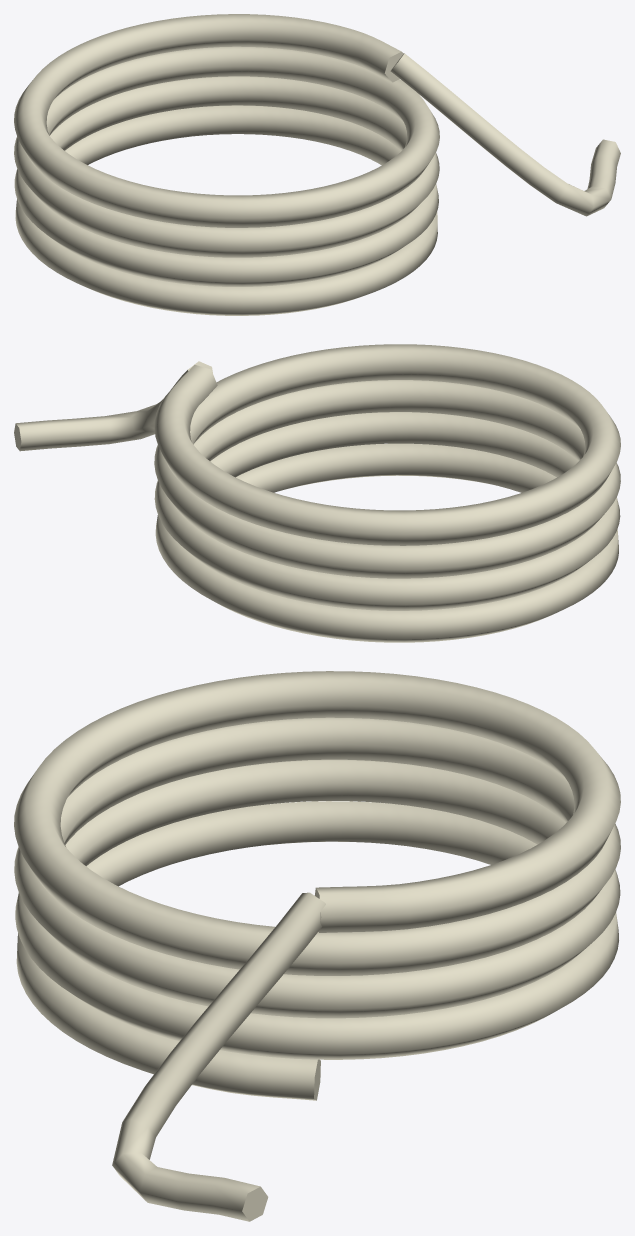
File: wilderness-survival-camp-guyline-coil-492ea3b7__21967.glb
The picture shows the model from 3 angles, top to bottom: view 1: azimuth 30°, elevation 25°; view 2: azimuth 150°, elevation 25°; view 3: azimuth 270°, elevation 25°; orthographic projection. The views are drawn at different scales.
Visible parts, largest first — view 1: guyline-coil; view 2: guyline-coil; view 3: guyline-coil.
Part boxes in pixels (x1=…): guyline-coil: x1=14, y1=14, x2=620, y2=315; guyline-coil: x1=14, y1=344, x2=620, y2=642; guyline-coil: x1=14, y1=671, x2=620, y2=1221.
Size of the model in its own units: 0.5833 by 0.1498 by 0.3899.
